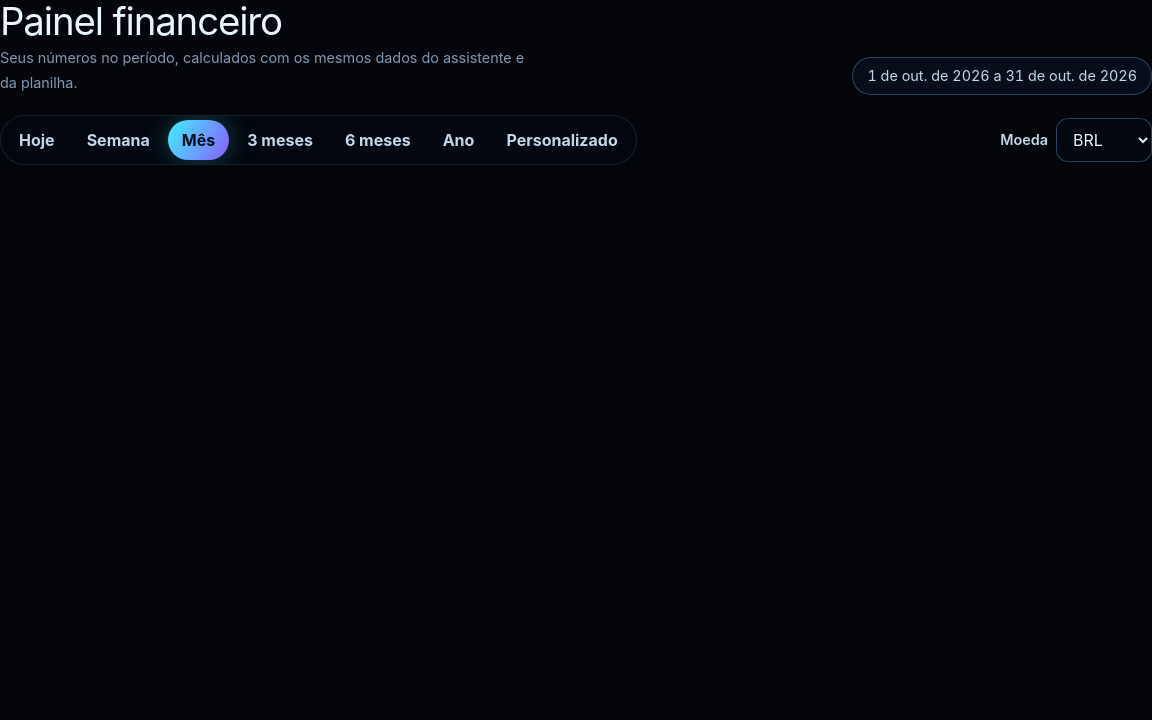
Test: DashboardPage › keeps currencies apart and lets the user switch
Select "USD" in the dropdown labelled "Moeda" at (1104,140), box top-left (1056, 118), bottom-right (1151, 162)
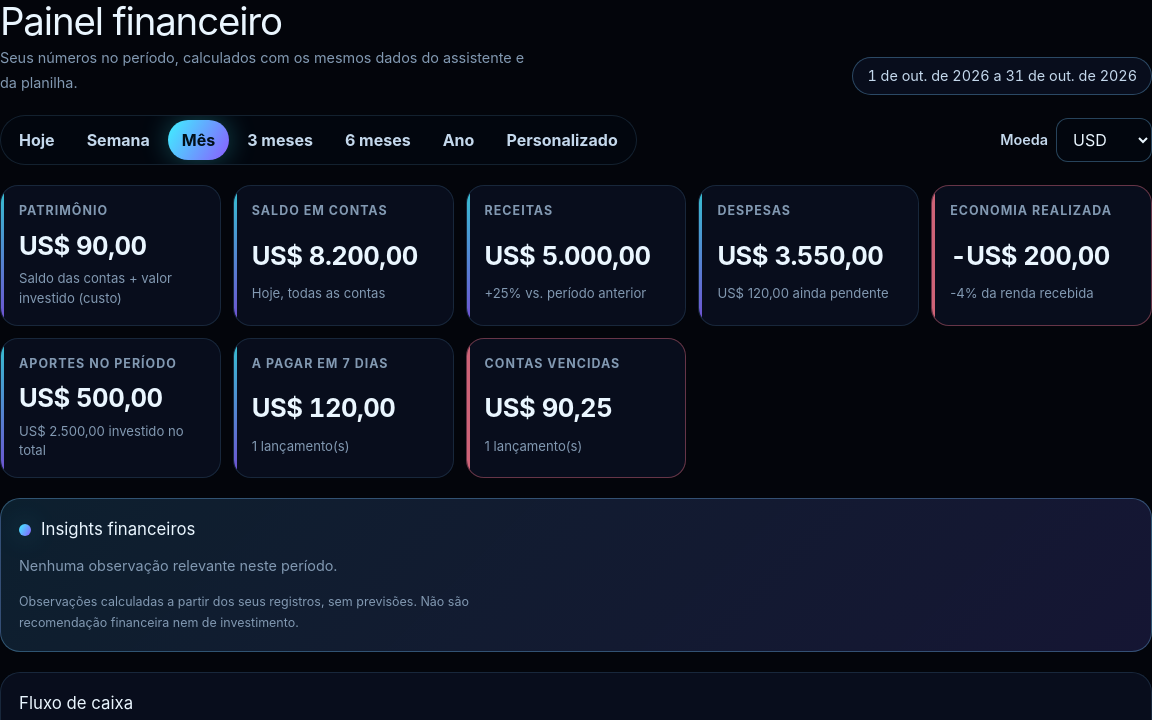
Expected: the text "US$ 90,00" is shown, top-left (19, 230), bottom-right (147, 261)
Expected: the text "Nenhuma observação relevante neste período." is shown, top-left (19, 557), bottom-right (338, 574)
